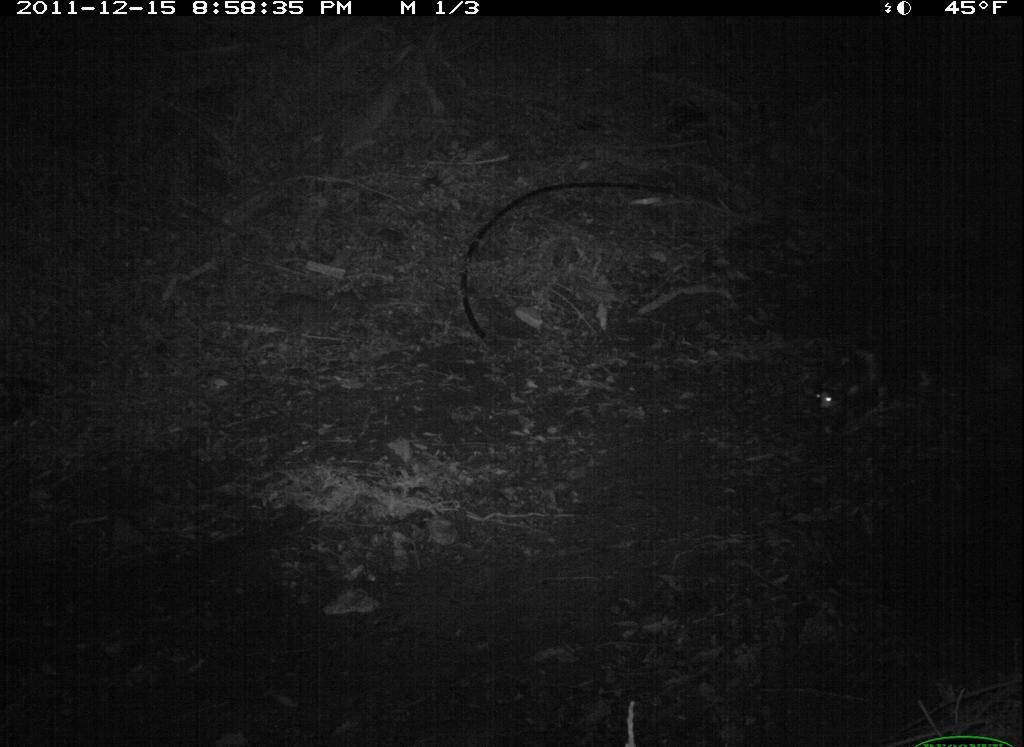cat: (799, 345, 945, 428)
